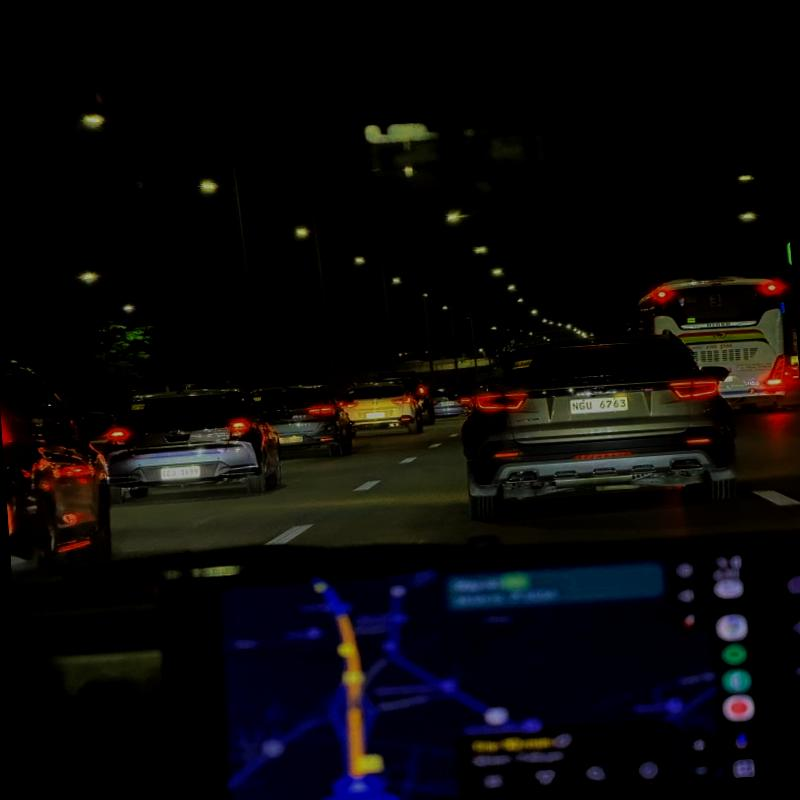license plate on a car: (570, 396, 629, 415), (161, 466, 200, 481), (280, 436, 304, 444), (366, 412, 385, 419)
